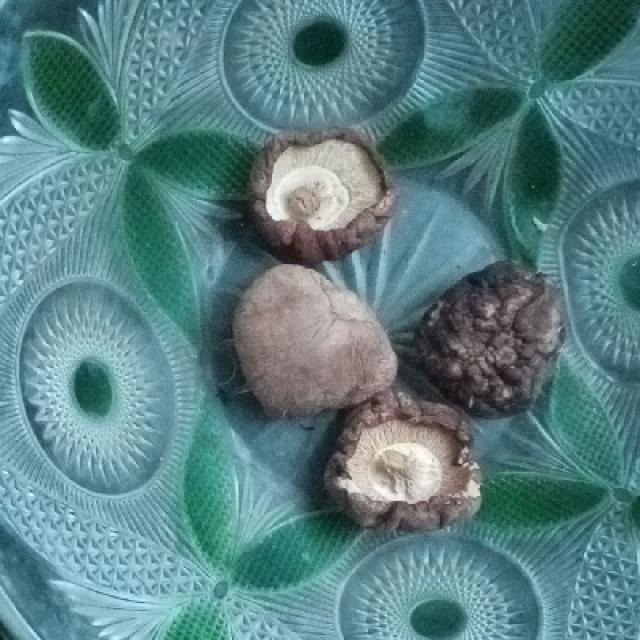Lentinus edodes: (233, 268, 398, 413), (415, 263, 568, 415), (320, 397, 485, 530), (250, 130, 397, 257)
